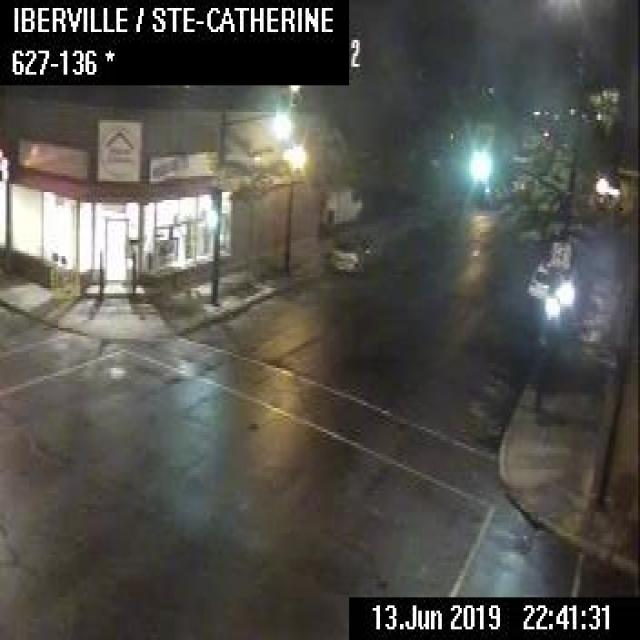vehicle: (327, 232, 362, 275), (527, 261, 549, 296), (359, 234, 378, 259)
